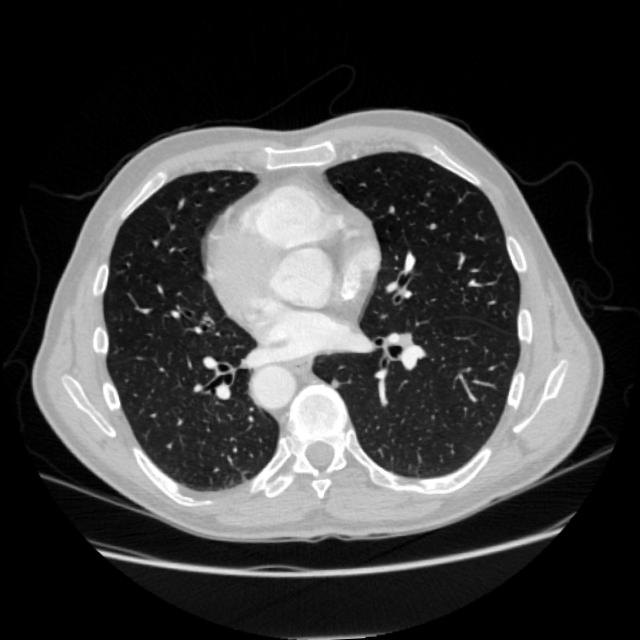nodule: (327, 371, 348, 392)
